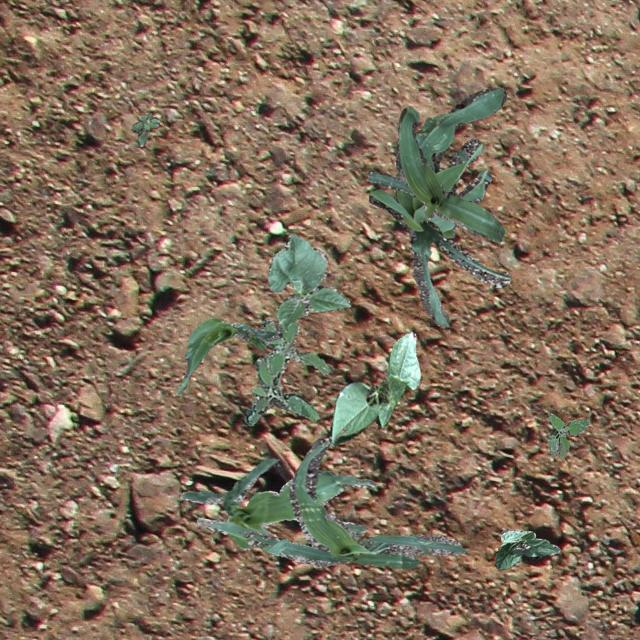crop: (368, 86, 510, 326), (244, 438, 466, 568), (366, 107, 504, 240), (180, 456, 374, 548), (328, 330, 420, 444), (268, 232, 350, 332), (177, 316, 280, 394), (494, 528, 558, 568)
weed: (244, 316, 330, 424), (546, 412, 588, 458), (130, 112, 158, 146)
